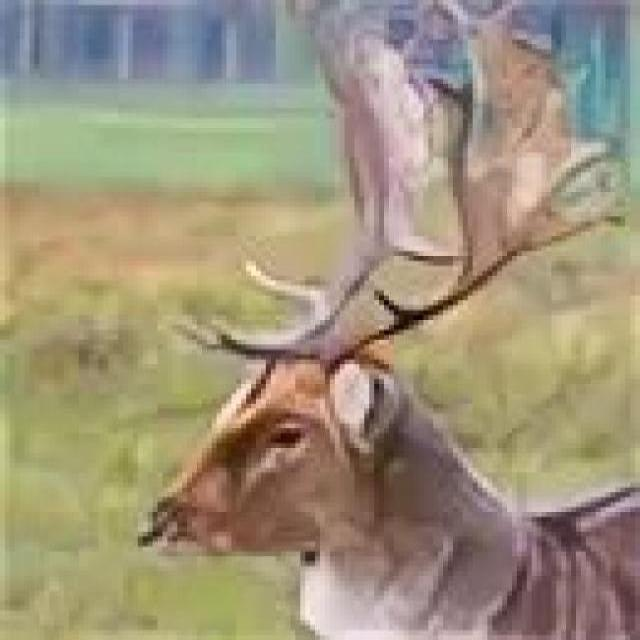deer: (98, 57, 640, 640)
